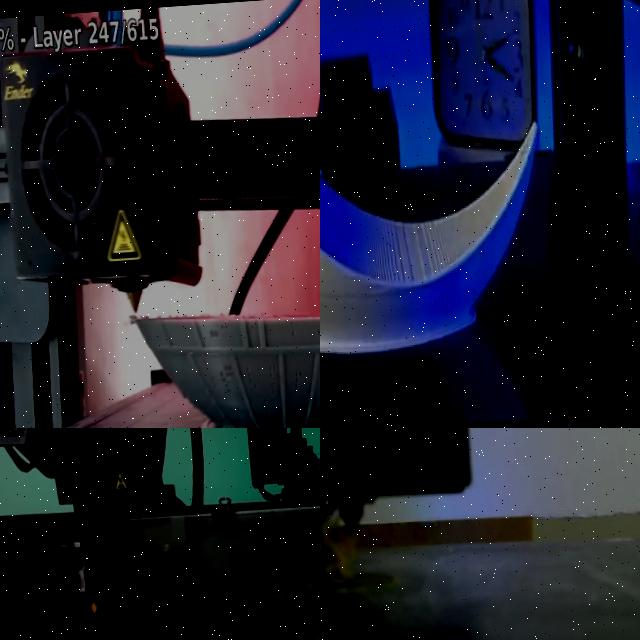spaghetti: (320, 522, 358, 585)
